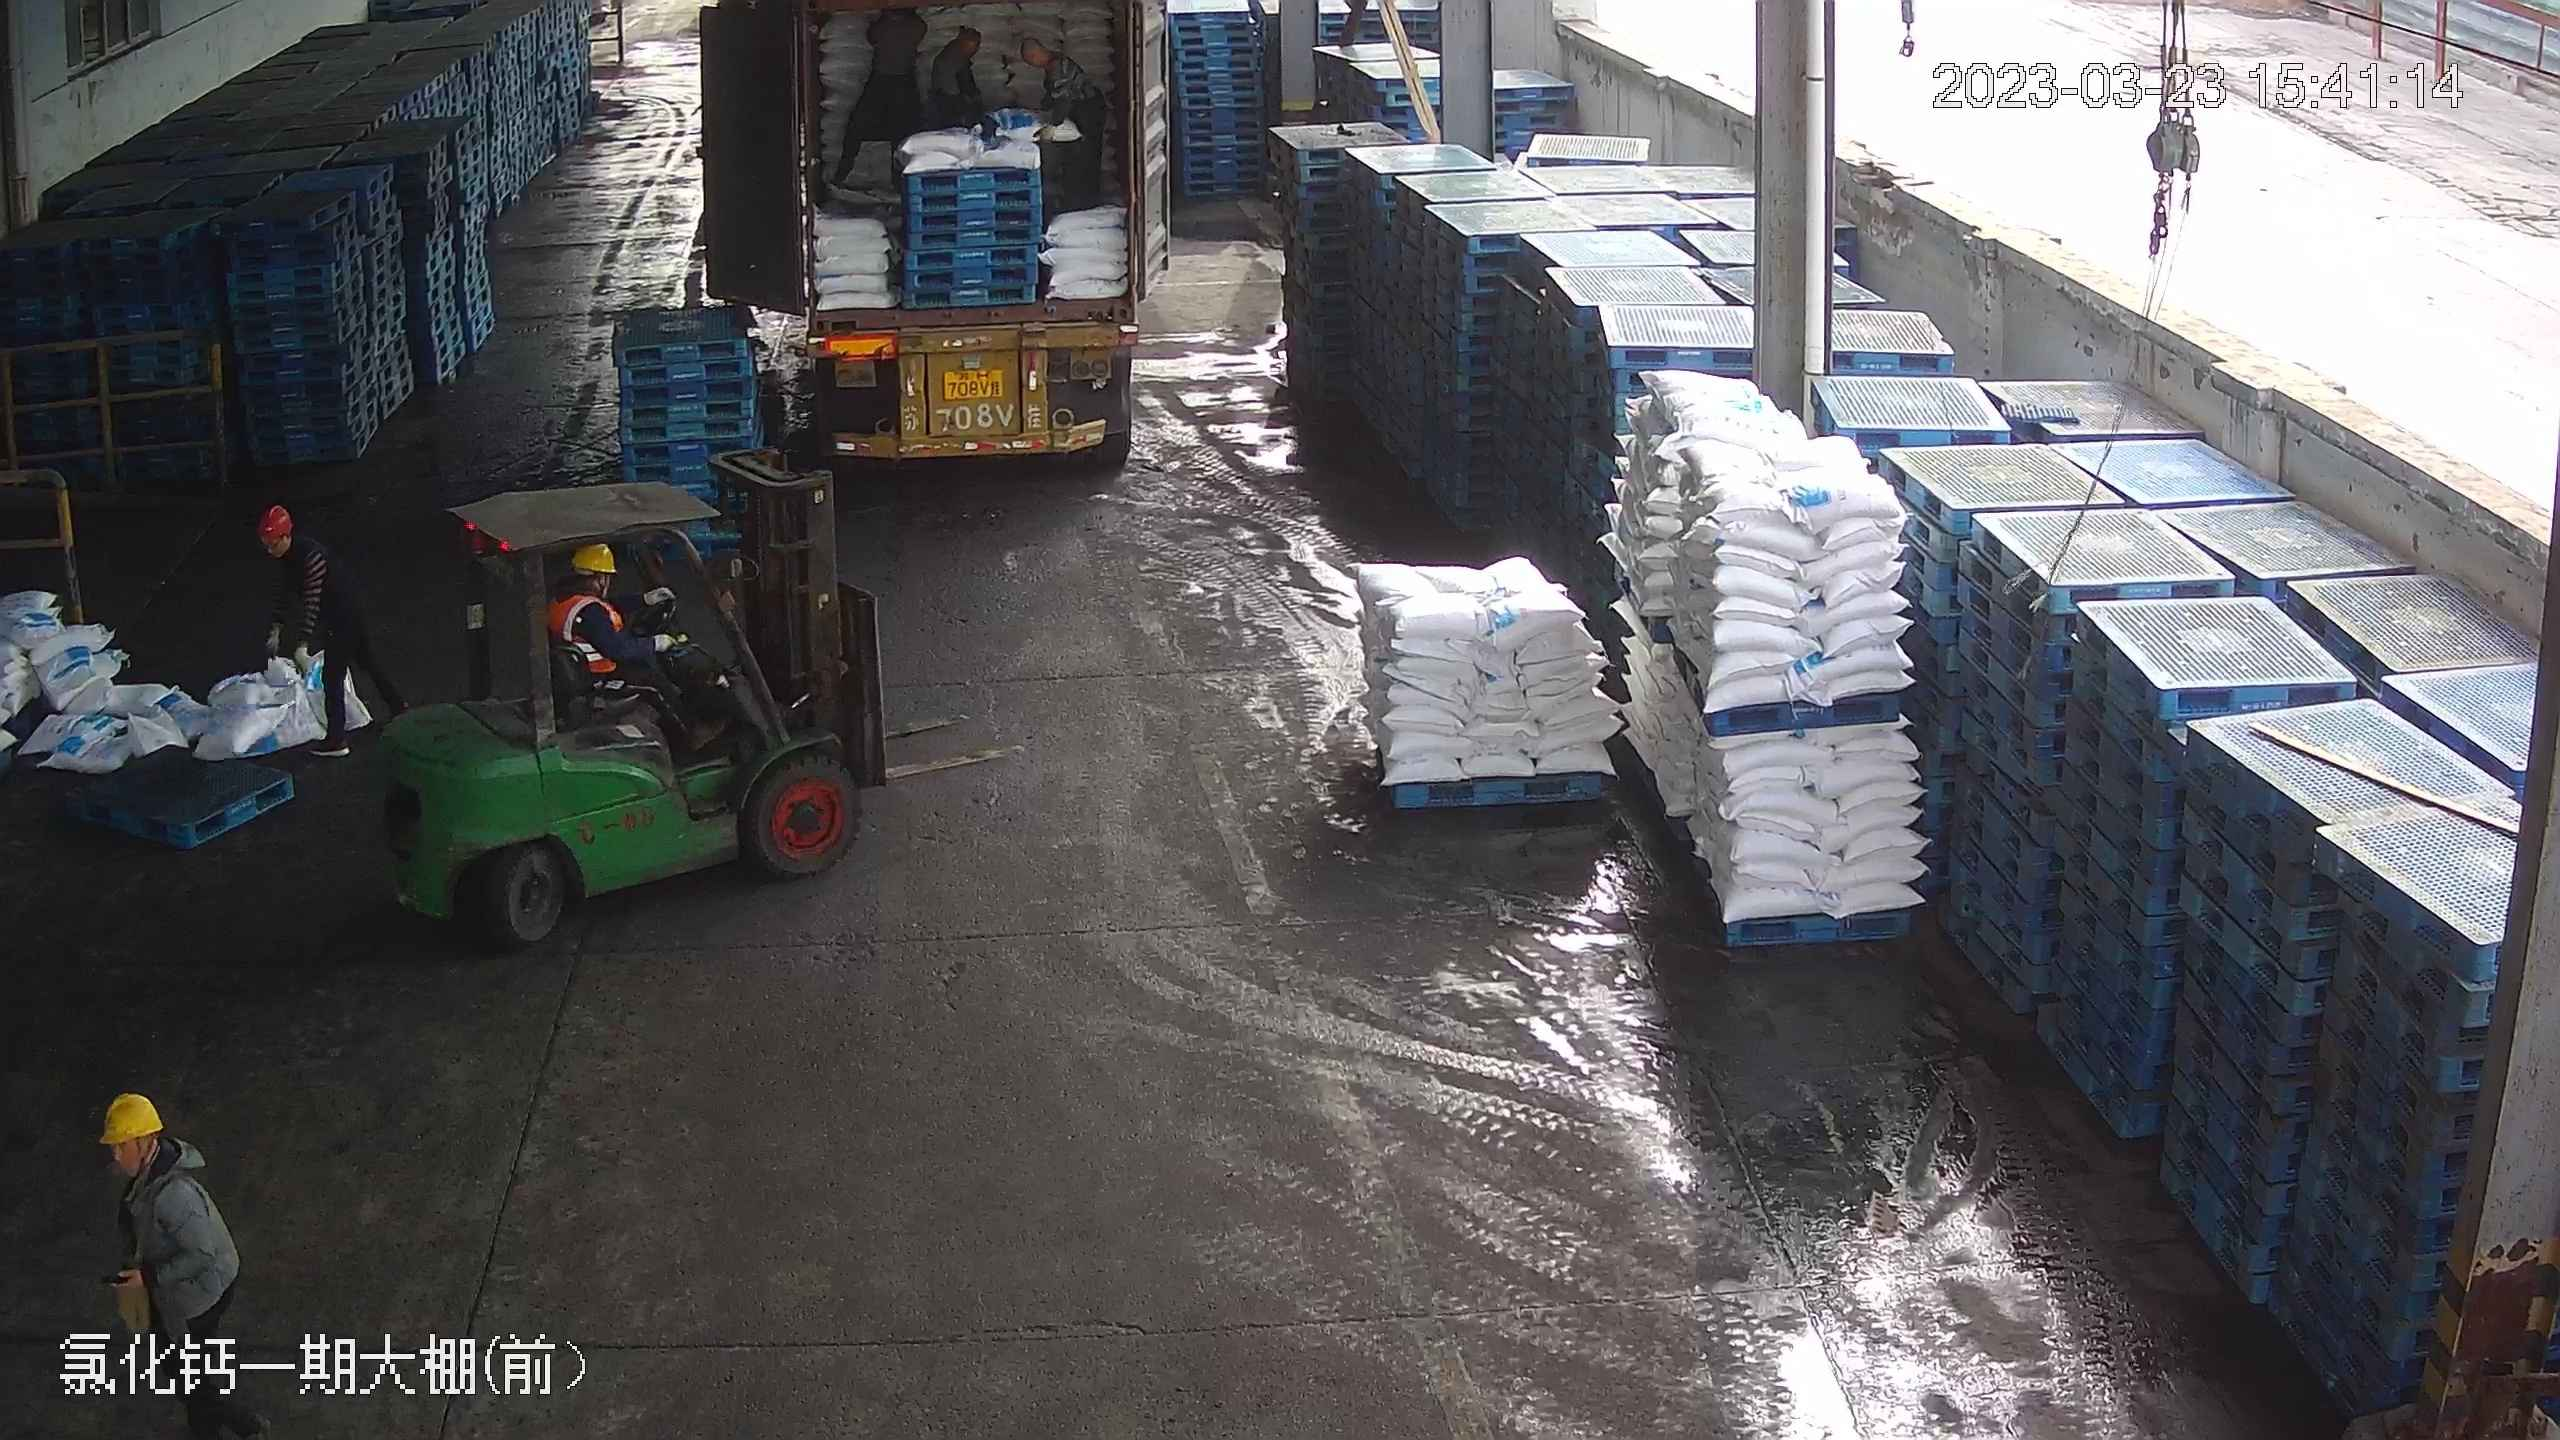head: (99, 1091, 211, 1218), (550, 541, 635, 639), (254, 503, 331, 595)
helmet: (97, 1090, 165, 1142), (568, 541, 618, 575), (257, 502, 293, 538)
people: (90, 1087, 250, 1440), (257, 505, 397, 760), (550, 539, 693, 727)
truck: (766, 10, 1176, 472)
